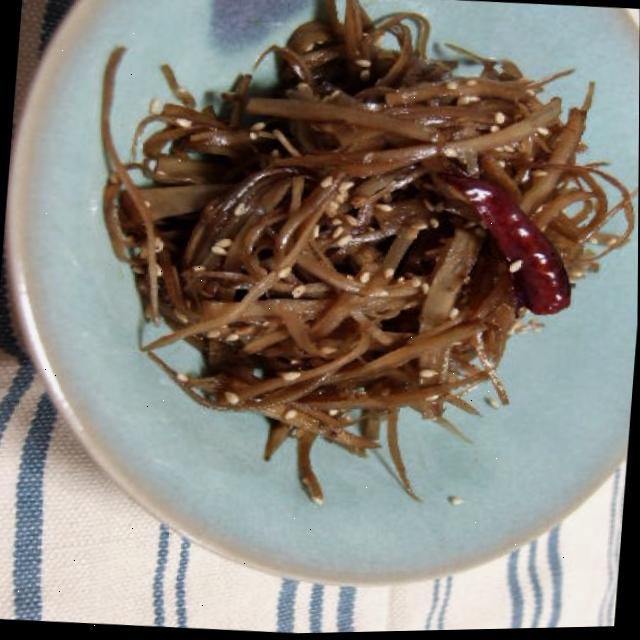蔬菜料理: (37, 0, 640, 575)
